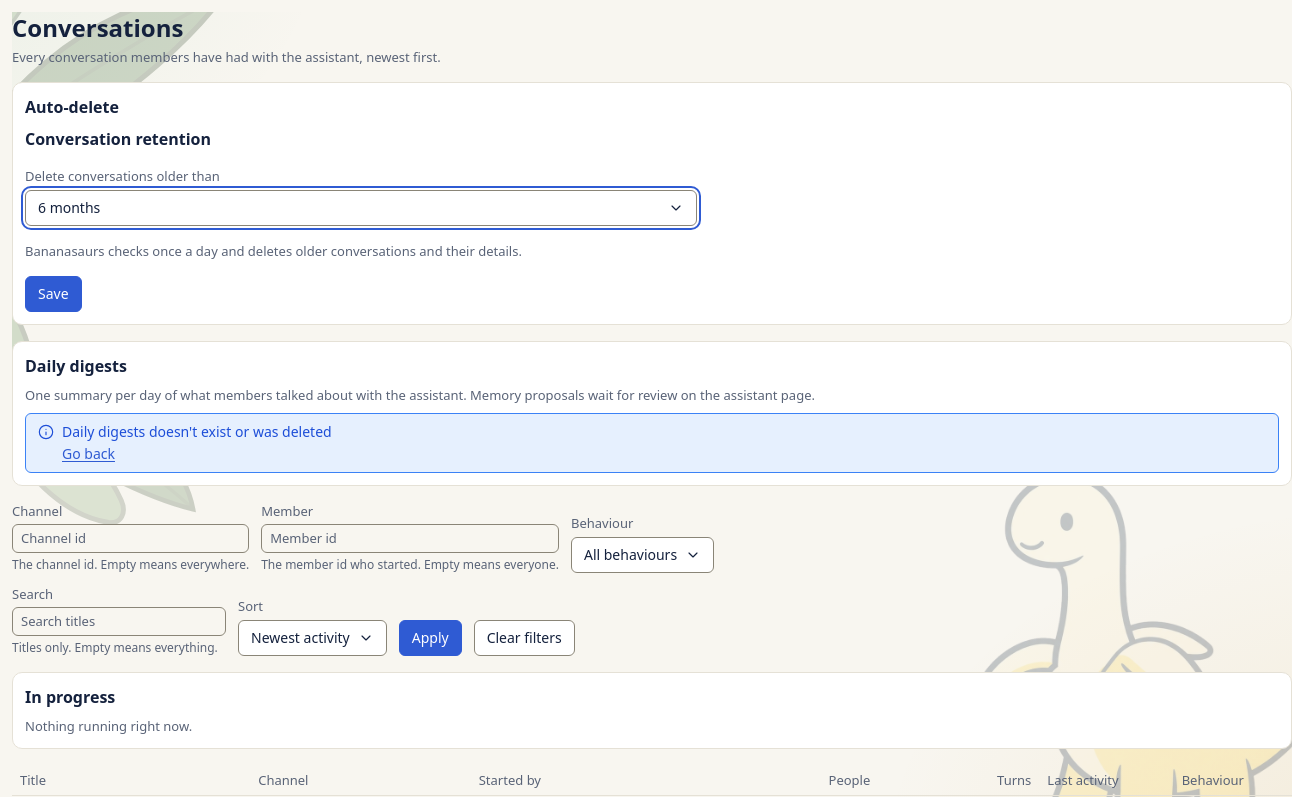
Test: AssistantConversationsPage › saves the chosen auto-delete window
Press Enter
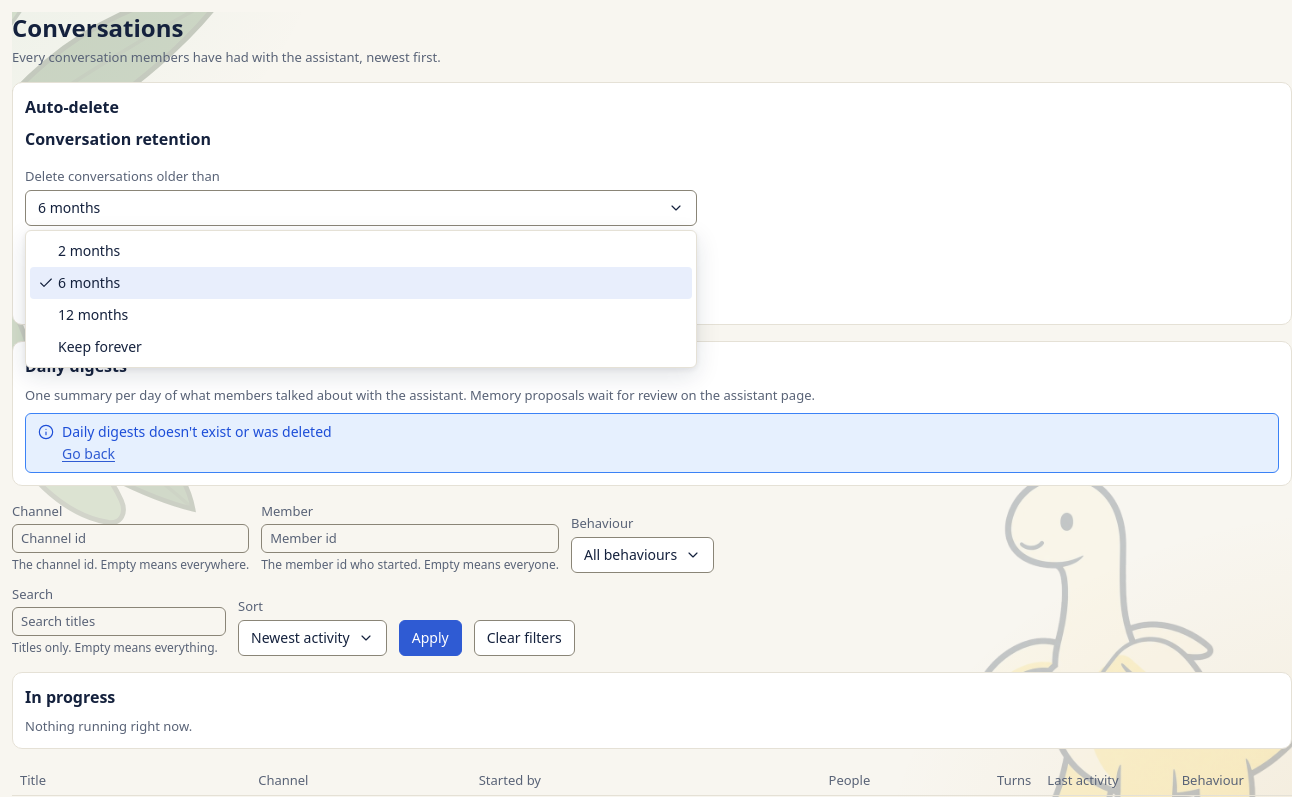
Click the option "2 months" at coordinates (89, 250), box [58,241,120,260]
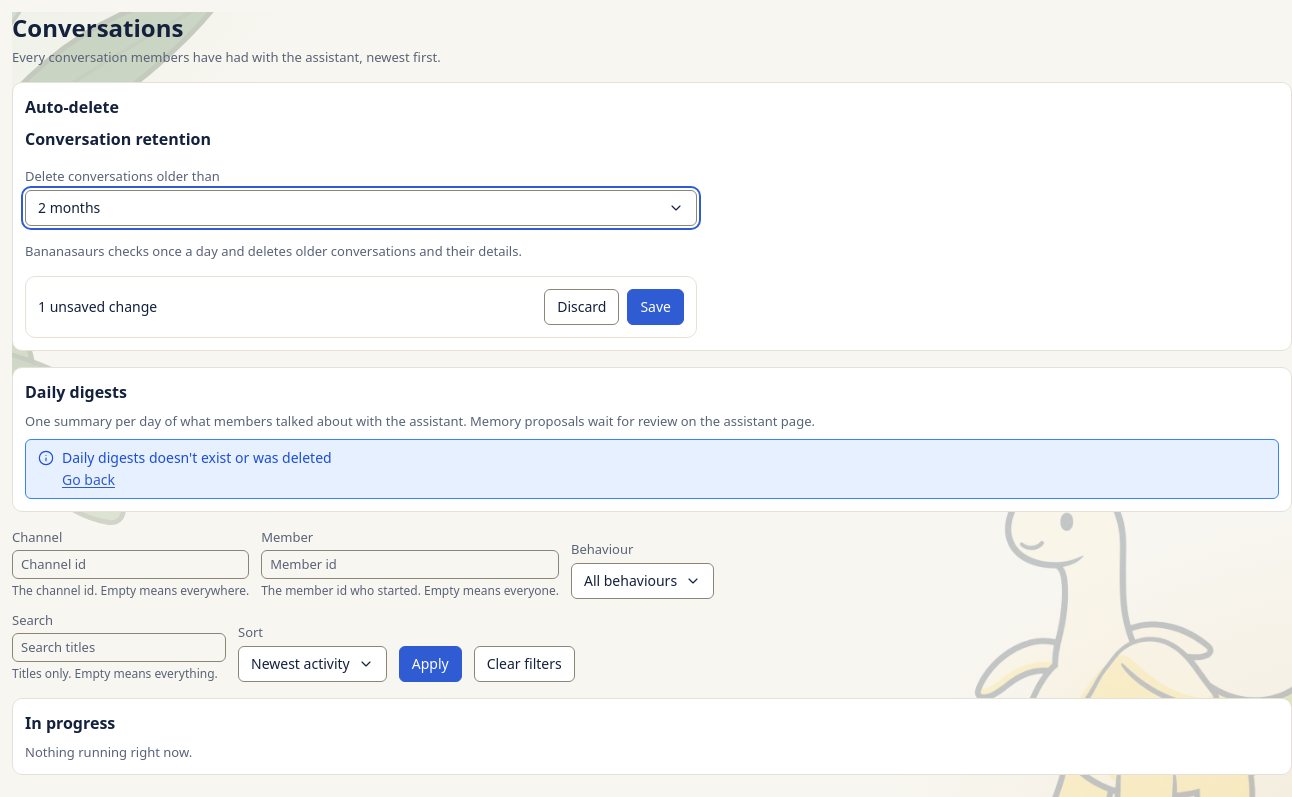
Click the button "Save" at coordinates (656, 307), box [627,289,684,325]
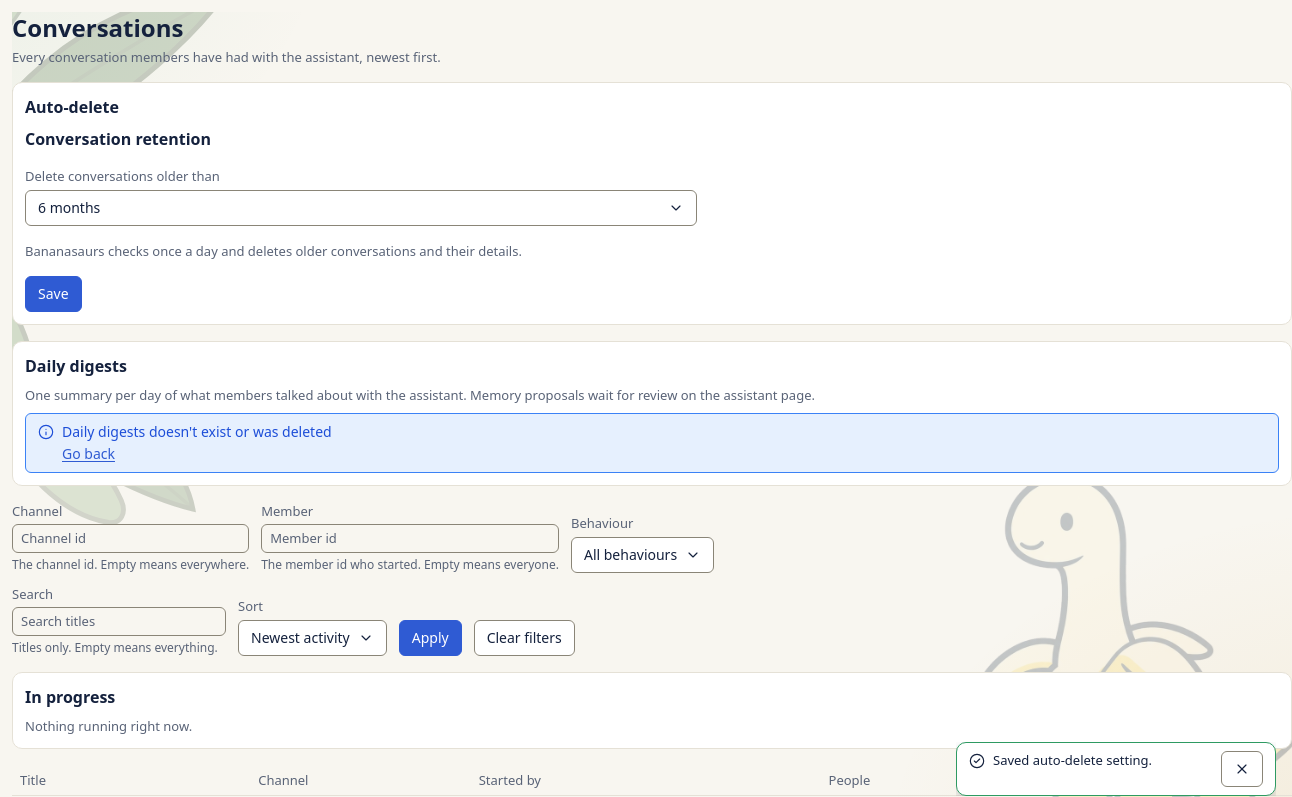
Now the text "Saved auto-delete setting." is shown, box [993,751,1152,769]
